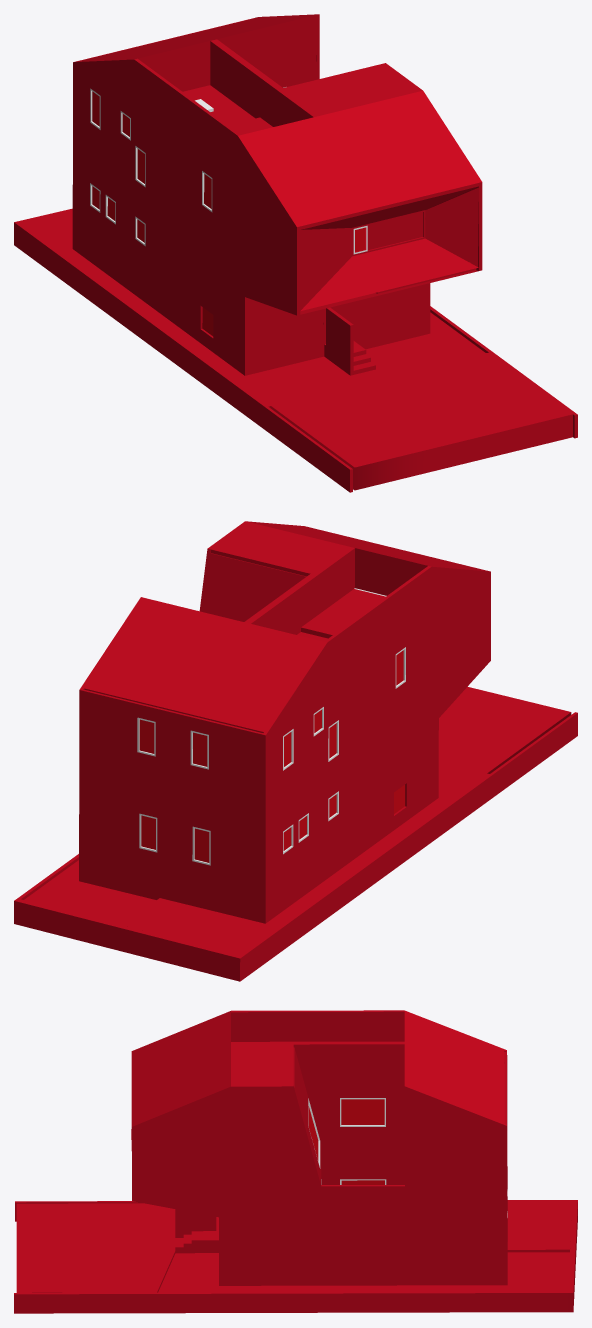
Rendered from asset.glb.
3 renders of one model, top to bottom at view 1: azimuth 30°, elevation 25°; view 2: azimuth 150°, elevation 25°; view 3: azimuth 270°, elevation 25°, orthographic. The views are drawn at different scales.
Parts seen in each view (by area): view 1: 3D_FACADE_BLACK, 3D_FIRST FLOOR, 3D_FACADE_REFLECTIVE, 3D_SURROUNDING CONTEXT, 3D_WALL, 3D_WINDOW FRAMES, 3d_Glass, 3D_TURF, 3D_FACADE_REFLECTIVE.001, Windows frames, 3D_FLOOR, 3D_FACADE_WHITE; view 2: 3D_FACADE_BLACK, 3D_FIRST FLOOR, 3D_SURROUNDING CONTEXT, 3D_FACADE_WHITE, 3D_TURF, 3d_Glass, 3D_WINDOW FRAMES, Windows frames, 3D_FLOOR, 3D_WALL; view 3: 3D_FACADE_BLACK, 3D_FIRST FLOOR, 3D_SURROUNDING CONTEXT, 3D_FACADE_WHITE, 3D_TURF, 3d_Glass, Windows frames.
Part boxes in pixels (x1,y1,x2,y2): 3D_FACADE_BLACK: (72,14,482,363); 3D_FIRST FLOOR: (31,212,572,490); 3D_FACADE_REFLECTIVE: (300,186,478,314); 3D_SURROUNDING CONTEXT: (14,208,577,492); 3D_WALL: (141,18,316,91); 3D_WINDOW FRAMES: (210,44,309,126); 3d_Glass: (92,91,423,251); 3D_TURF: (366,312,485,369); 3D_FACADE_REFLECTIVE.001: (425,187,478,266); Windows frames: (90,87,425,336); 3D_FLOOR: (183,85,476,293); 3D_FACADE_WHITE: (210,39,282,91); 3D_FACADE_BLACK: (79,521,490,911); 3D_FIRST FLOOR: (79,686,571,950); 3D_SURROUNDING CONTEXT: (14,712,577,981); 3D_FACADE_WHITE: (203,553,317,624); 3D_TURF: (24,860,156,924); 3d_Glass: (139,650,403,862); 3D_WINDOW FRAMES: (254,552,354,634); Windows frames: (137,647,405,865); 3D_FLOOR: (297,588,386,641); 3D_WALL: (355,551,424,595); 3D_FACADE_BLACK: (131,1010,507,1272); 3D_FIRST FLOOR: (16,1201,571,1292); 3D_SURROUNDING CONTEXT: (14,1200,577,1313); 3D_FACADE_WHITE: (293,1041,404,1184); 3D_TURF: (158,1252,569,1292); 3d_Glass: (308,1099,384,1184); Windows frames: (308,1098,507,1217).
Size of the model in its own units: 8.07 by 8.79 by 20.69.
